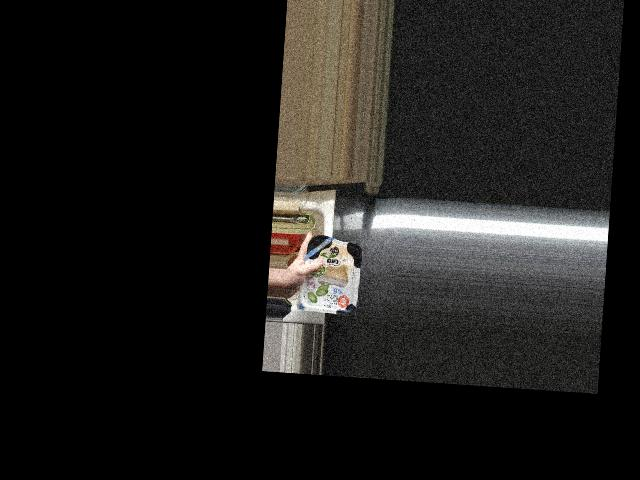cheese: (297, 233, 362, 313)
